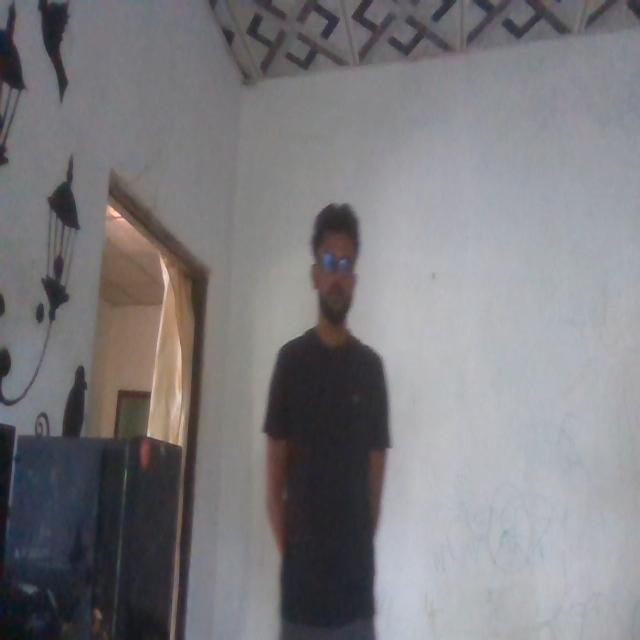Person: (262, 195, 391, 640)
